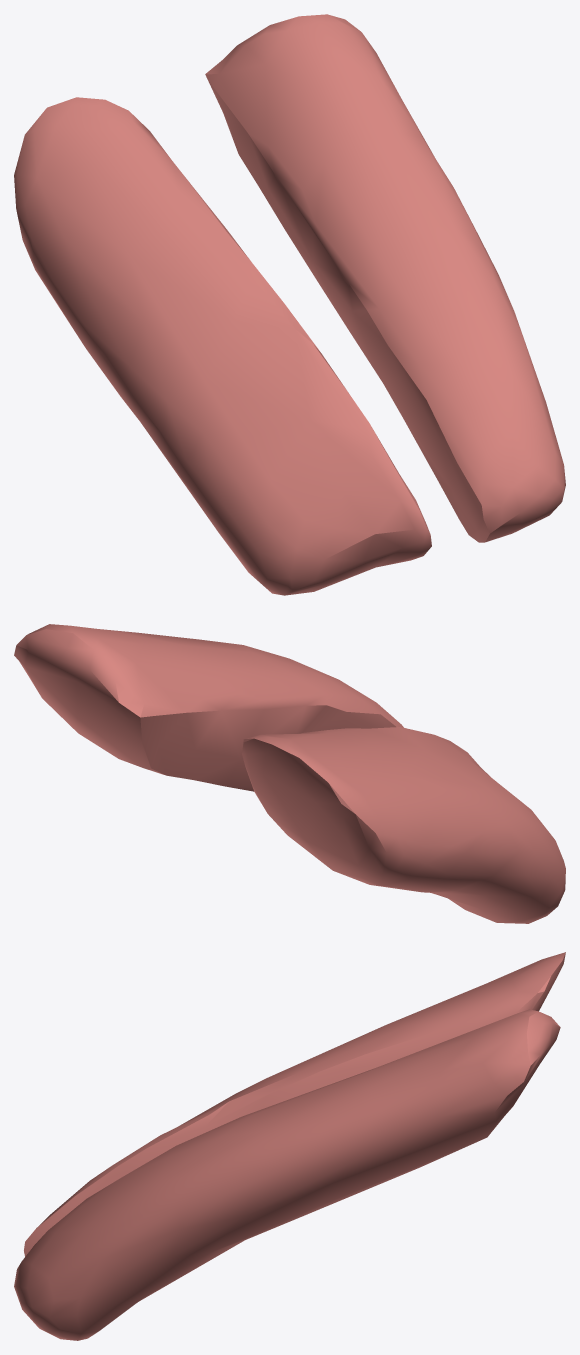
Rendered from fma42602_mm1948.glb.
3 renders of one model, top to bottom at view 1: azimuth 30°, elevation 25°; view 2: azimuth 150°, elevation 25°; view 3: azimuth 270°, elevation 25°, orthographic. The views are drawn at different scales.
Visible parts, largest first — view 1: FMA42602_MM1948; view 2: FMA42602_MM1948; view 3: FMA42602_MM1948.
Part boxes in pixels (x1=…): FMA42602_MM1948: x1=14, y1=14, x2=565, y2=595; FMA42602_MM1948: x1=14, y1=624, x2=565, y2=923; FMA42602_MM1948: x1=14, y1=952, x2=565, y2=1340.
Bounding box in the file's own units: 0.00879 × 0.00884 × 0.0122.
